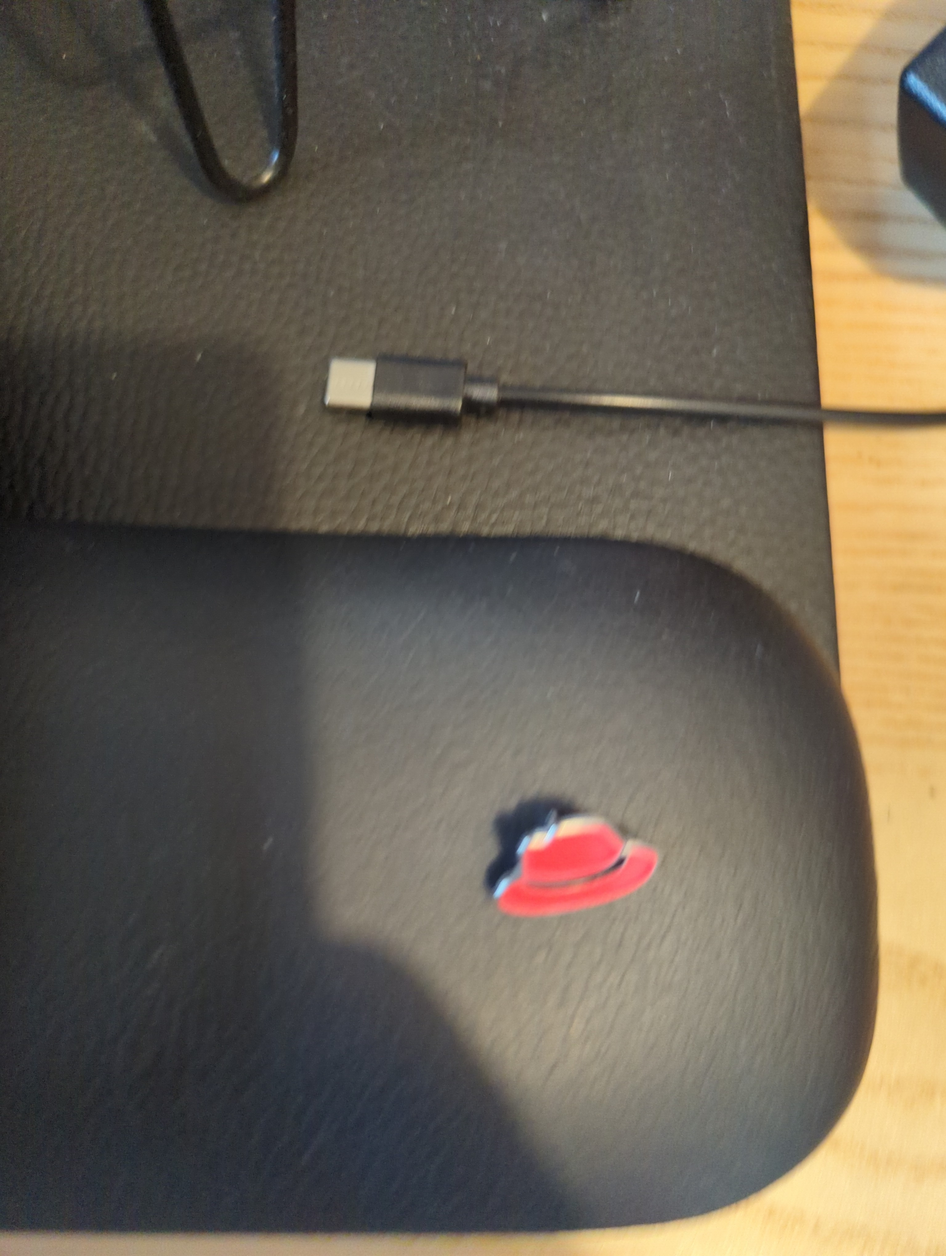Red-Hat: (363, 731, 808, 1013)
